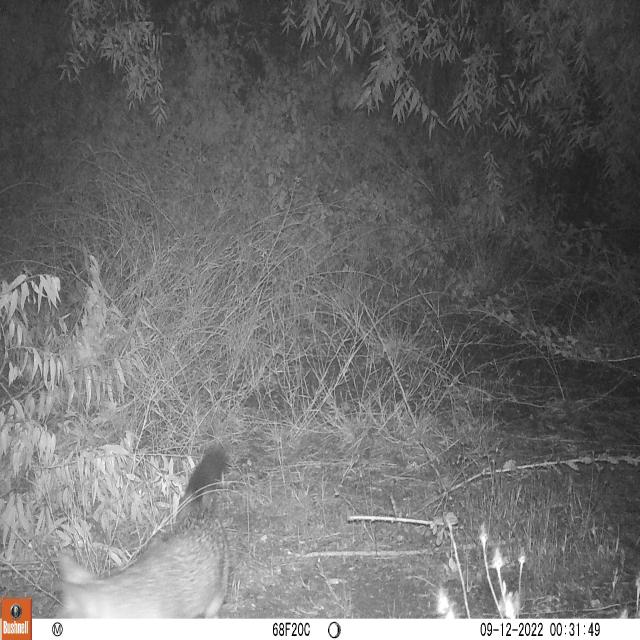Fox: (48, 432, 255, 618)
